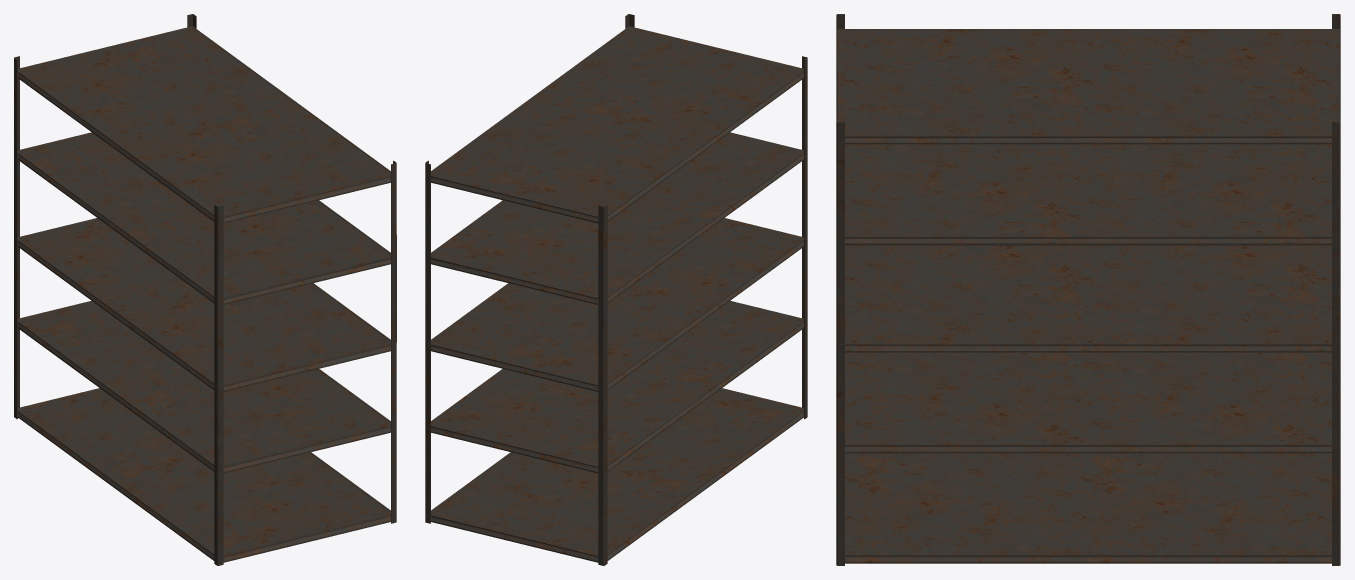
The model's file is shelter_a_storage_shelf.glb.
3 renders of one model, left to right at view 1: azimuth 30°, elevation 25°; view 2: azimuth 150°, elevation 25°; view 3: azimuth 270°, elevation 25°, orthographic. The views are drawn at different scales.
Visible parts, largest first — view 1: shelter_a_storage_shelf; view 2: shelter_a_storage_shelf; view 3: shelter_a_storage_shelf.
Boxes of the visible parts, x1,y1,x2,y2 form: shelter_a_storage_shelf: [14, 14, 396, 565]; shelter_a_storage_shelf: [425, 14, 807, 565]; shelter_a_storage_shelf: [836, 14, 1340, 565].
Size of the model in its own units: 1.27 by 2.42 by 2.49.
1 material, 1 textured.
